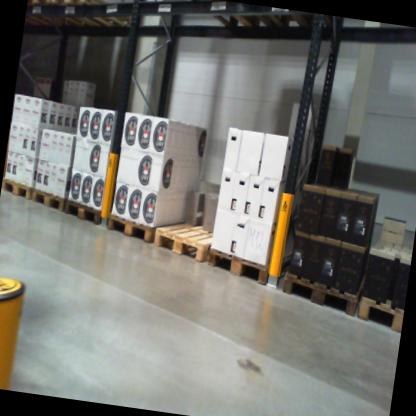pallet: (277, 252, 369, 314), (203, 227, 283, 289), (149, 210, 229, 268), (104, 204, 193, 251), (185, 0, 282, 42), (249, 5, 339, 48), (46, 0, 141, 37), (353, 287, 406, 333), (25, 0, 87, 38), (58, 192, 111, 233), (30, 186, 69, 214), (1, 175, 38, 203)
